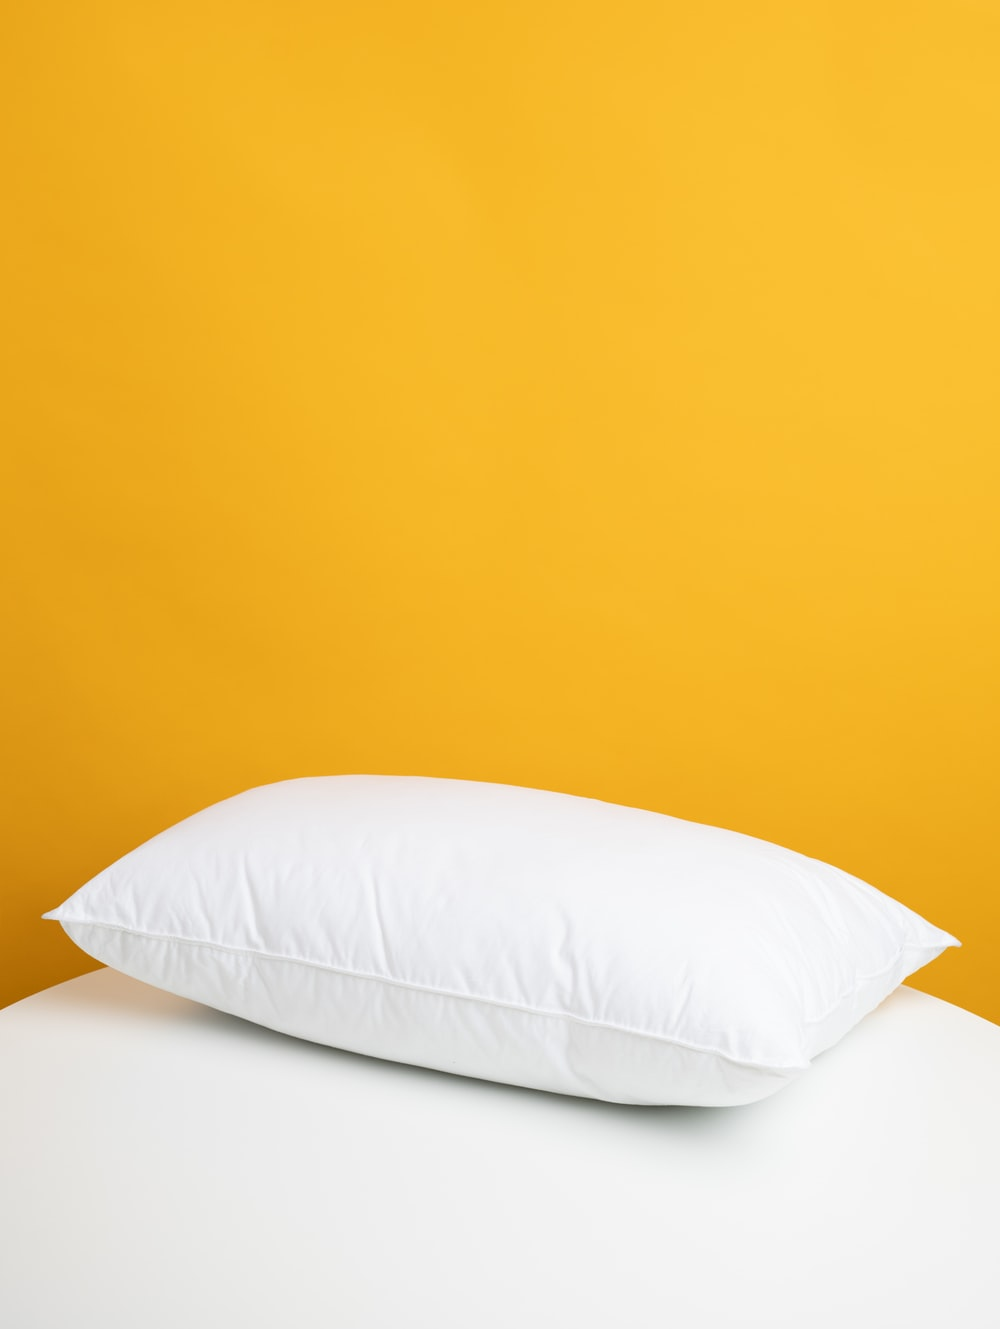bantal: (24, 768, 970, 1143)
